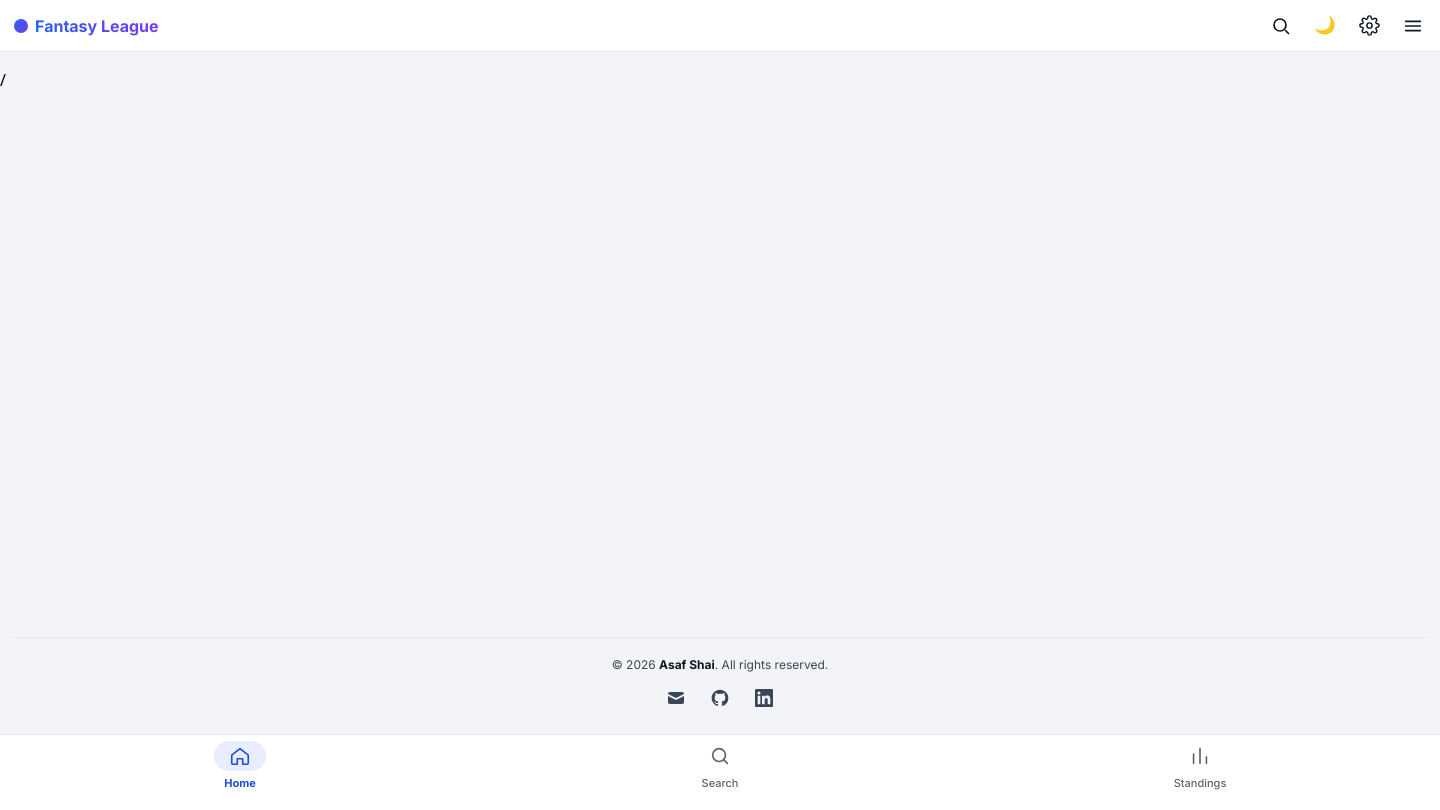
Test case: tab bar from saved settings › Search is a button that opens search
Click the button "Search".
click(720, 766)  # box left=480, top=735, right=960, bottom=798
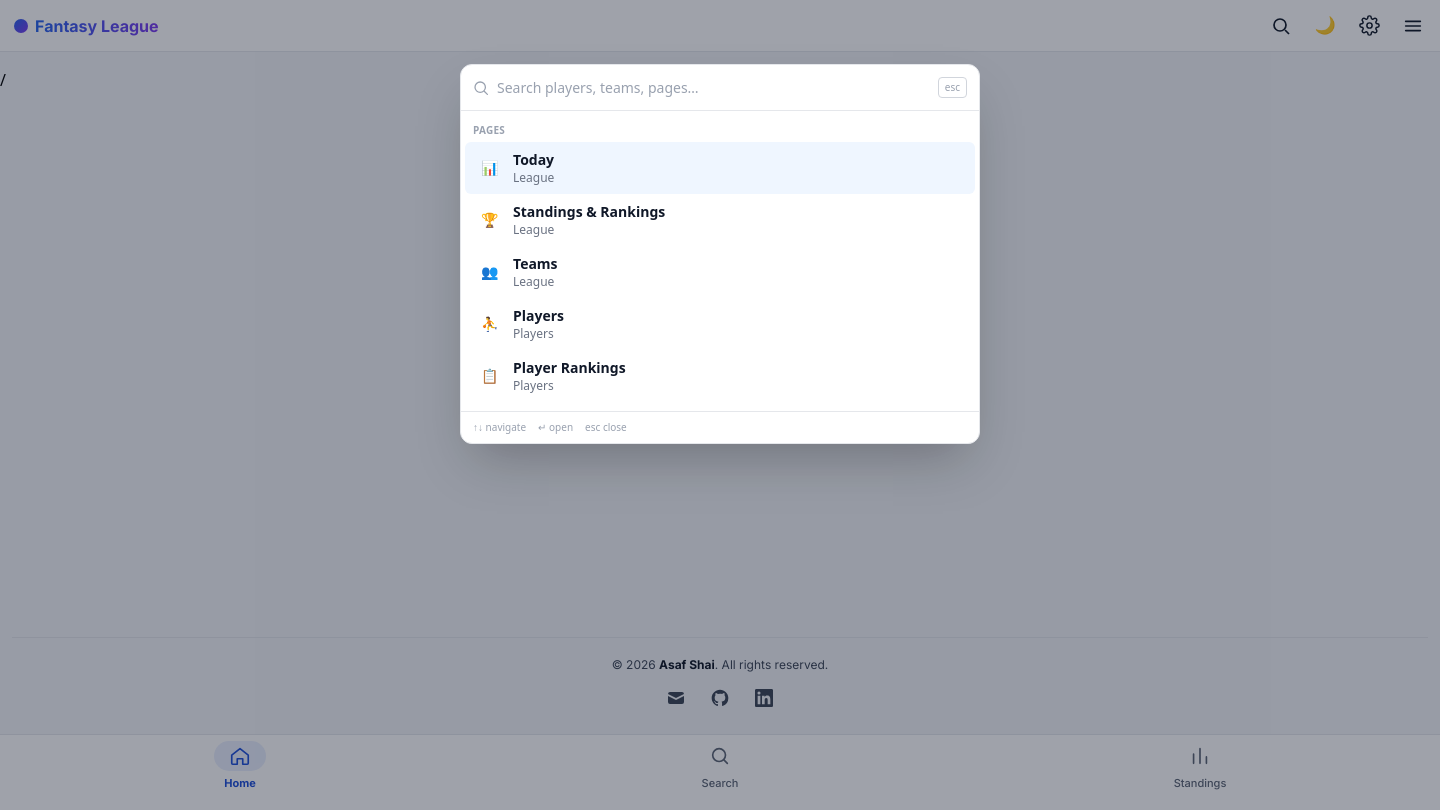
expect the dialog is shown: met, box left=460, top=64, right=980, bottom=444
